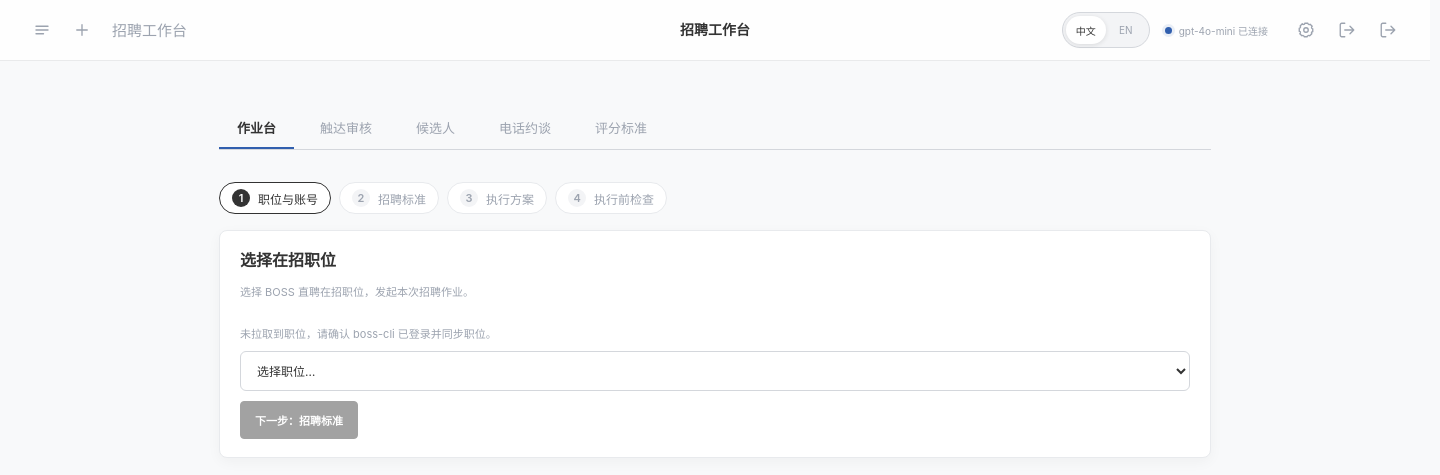
Test: 顶栏工具入口 › 工具条提供招聘工作台、简历筛选、电话确认、考勤管理四个入口
工具条默认隐藏（隐藏元素不在可访问树内），展开后四个入口都应可见可查询
Click the button named "新建" at [82, 30], box x1=64 y1=12 x2=100 y2=48
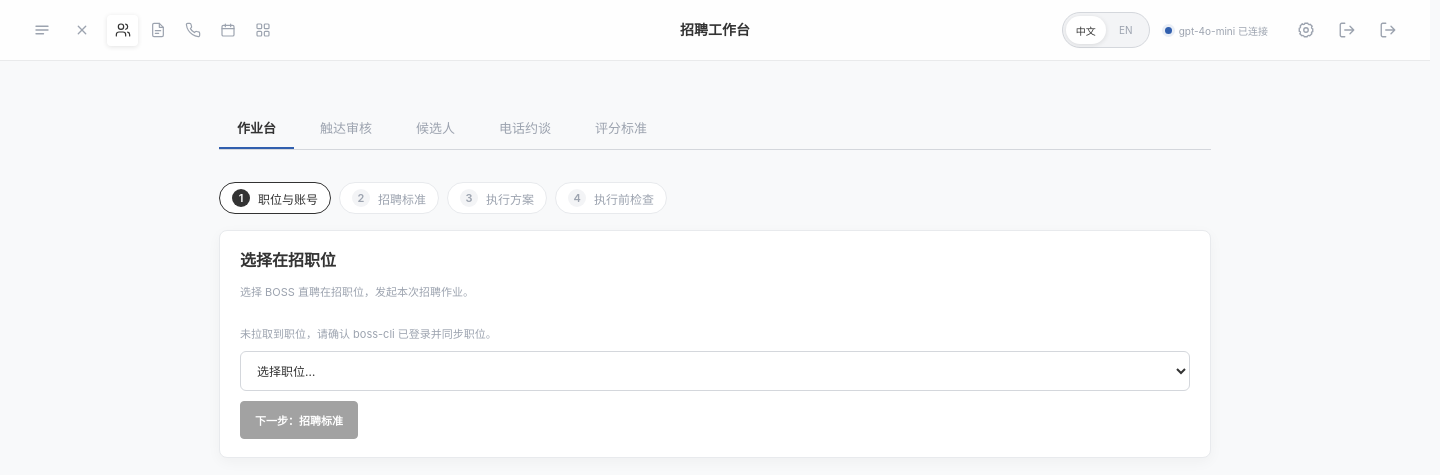
expect the button named "招聘工作台" is shown: met, box x1=107 y1=14 x2=138 y2=46
expect the button named "简历筛选" is shown: met, box x1=142 y1=14 x2=173 y2=46
expect the button named "电话确认" is shown: met, box x1=177 y1=14 x2=208 y2=46
